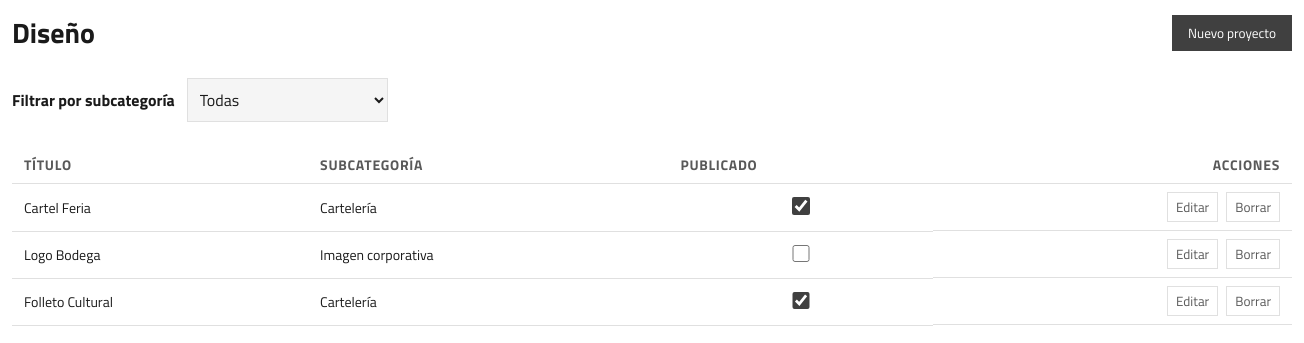
Test case: AdminDesign › muestra el estado vacío filtrado
This screenshot has width=1304, height=343.
Check: the cell "Cartel Feria" is shown, box [12,184,308,231]
Select "Editorial" in the dropdown labelled "Filtrar por subcategoría" at (287, 100), box [187,78,388,122]
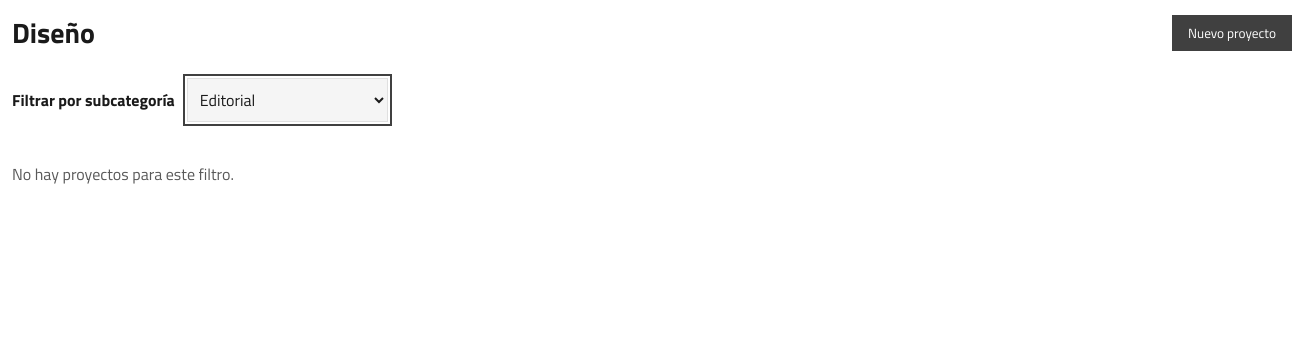
Check: the text "No hay proyectos para este filtro." is shown, box [12,162,234,186]
